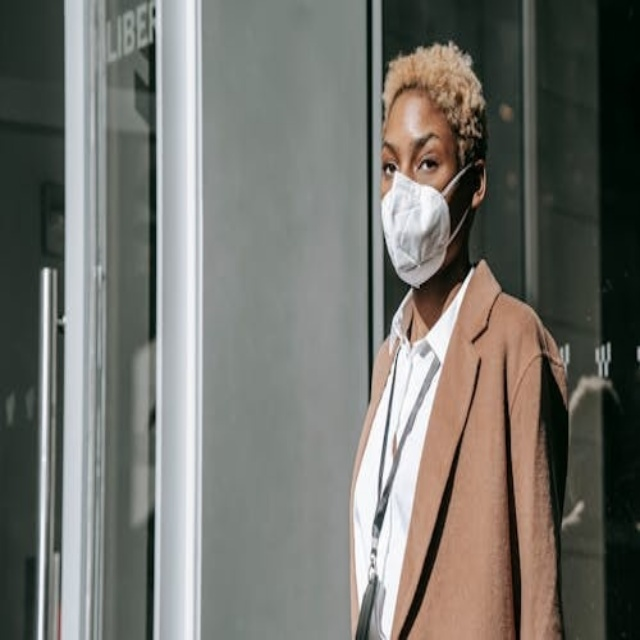Mascara: (381, 161, 475, 287)
Sin_gafas: (380, 131, 448, 183)
